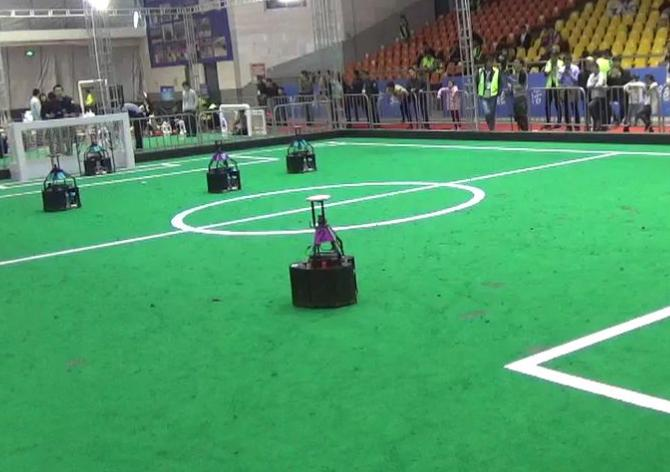robot: (281, 192, 366, 312), (37, 152, 85, 212), (201, 133, 245, 196), (282, 122, 320, 177)
